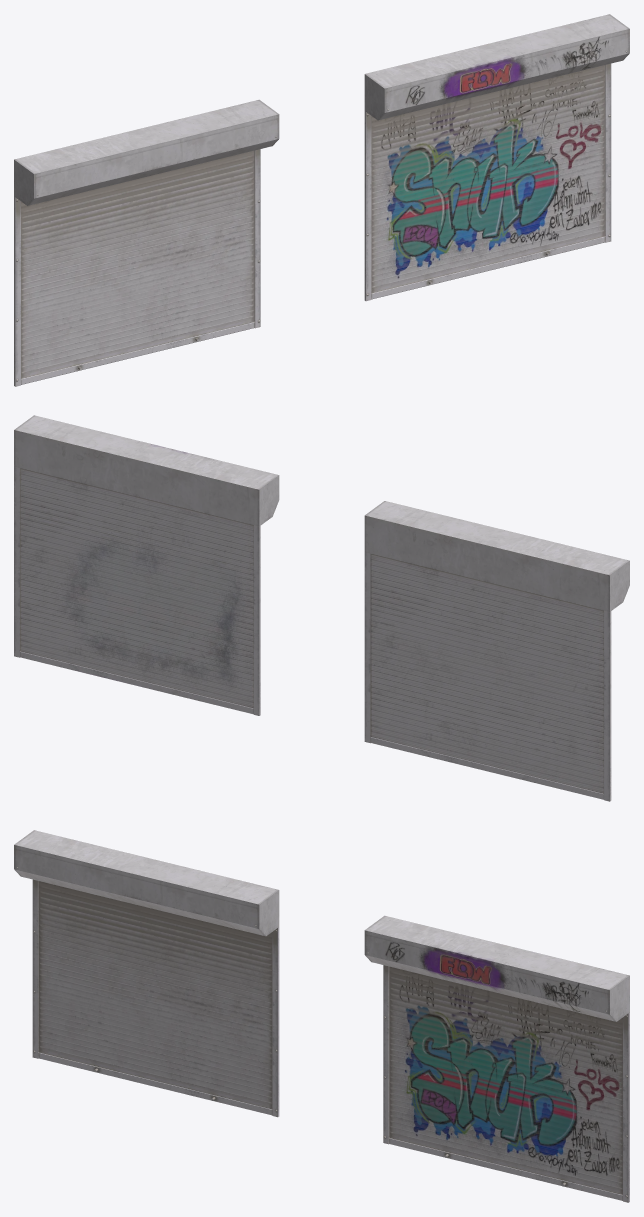
File: rollershutter_window_01.glb
3 views of the same model, one above another, from view 1: azimuth 30°, elevation 25°; view 2: azimuth 150°, elevation 25°; view 3: azimuth 330°, elevation 25° (orthographic).
Parts seen in each view (by area): view 1: rollershutter_window_01_graffiti, rollershutter_window_01; view 2: rollershutter_window_01, rollershutter_window_01_graffiti; view 3: rollershutter_window_01, rollershutter_window_01_graffiti.
Part boxes in pixels (bbox=[...]): rollershutter_window_01_graffiti: bbox=[364, 14, 629, 301]; rollershutter_window_01: bbox=[14, 99, 279, 386]; rollershutter_window_01: bbox=[364, 501, 629, 801]; rollershutter_window_01_graffiti: bbox=[14, 415, 279, 715]; rollershutter_window_01: bbox=[14, 830, 279, 1117]; rollershutter_window_01_graffiti: bbox=[364, 915, 629, 1202].
Bounding box in the file's own units: 5.1 × 1.85 × 0.2999.
2 materials, 2 textured.
